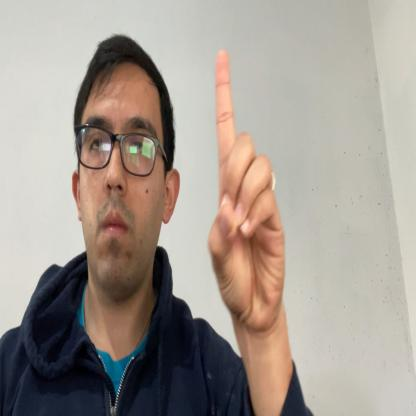D: (207, 50, 286, 336)
